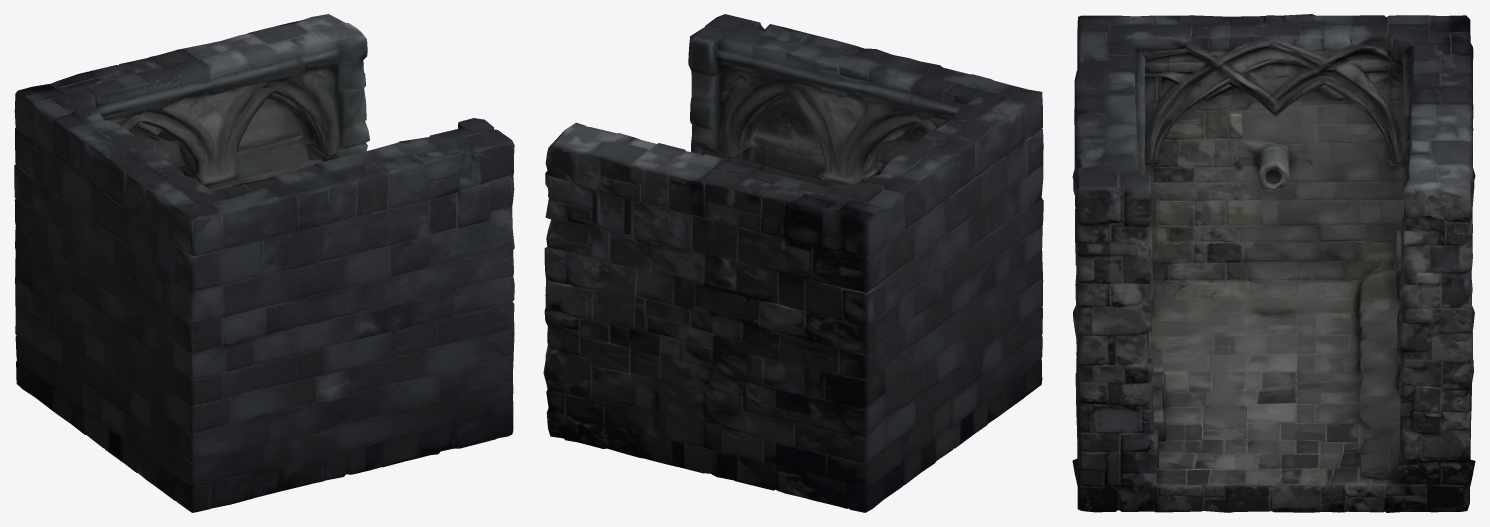
Rendered from mod_tee.glb.
3 views of the same model, side by side, from view 1: azimuth 30°, elevation 25°; view 2: azimuth 150°, elevation 25°; view 3: azimuth 270°, elevation 25° (orthographic). The views are drawn at different scales.
Parts seen in each view (by area): view 1: tripo_node_f13522ad-8d7c-4a0e-bdf0-a3de35f6eb1c; view 2: tripo_node_f13522ad-8d7c-4a0e-bdf0-a3de35f6eb1c; view 3: tripo_node_f13522ad-8d7c-4a0e-bdf0-a3de35f6eb1c.
Boxes of the visible parts, x1,y1,x2,y2 form: tripo_node_f13522ad-8d7c-4a0e-bdf0-a3de35f6eb1c: (14,14,514,512); tripo_node_f13522ad-8d7c-4a0e-bdf0-a3de35f6eb1c: (543,14,1043,512); tripo_node_f13522ad-8d7c-4a0e-bdf0-a3de35f6eb1c: (1072,14,1475,512).
Bounding box in the file's own units: 1 × 0.8657 × 0.9621.
Materials: 1 (1 with a texture image).
